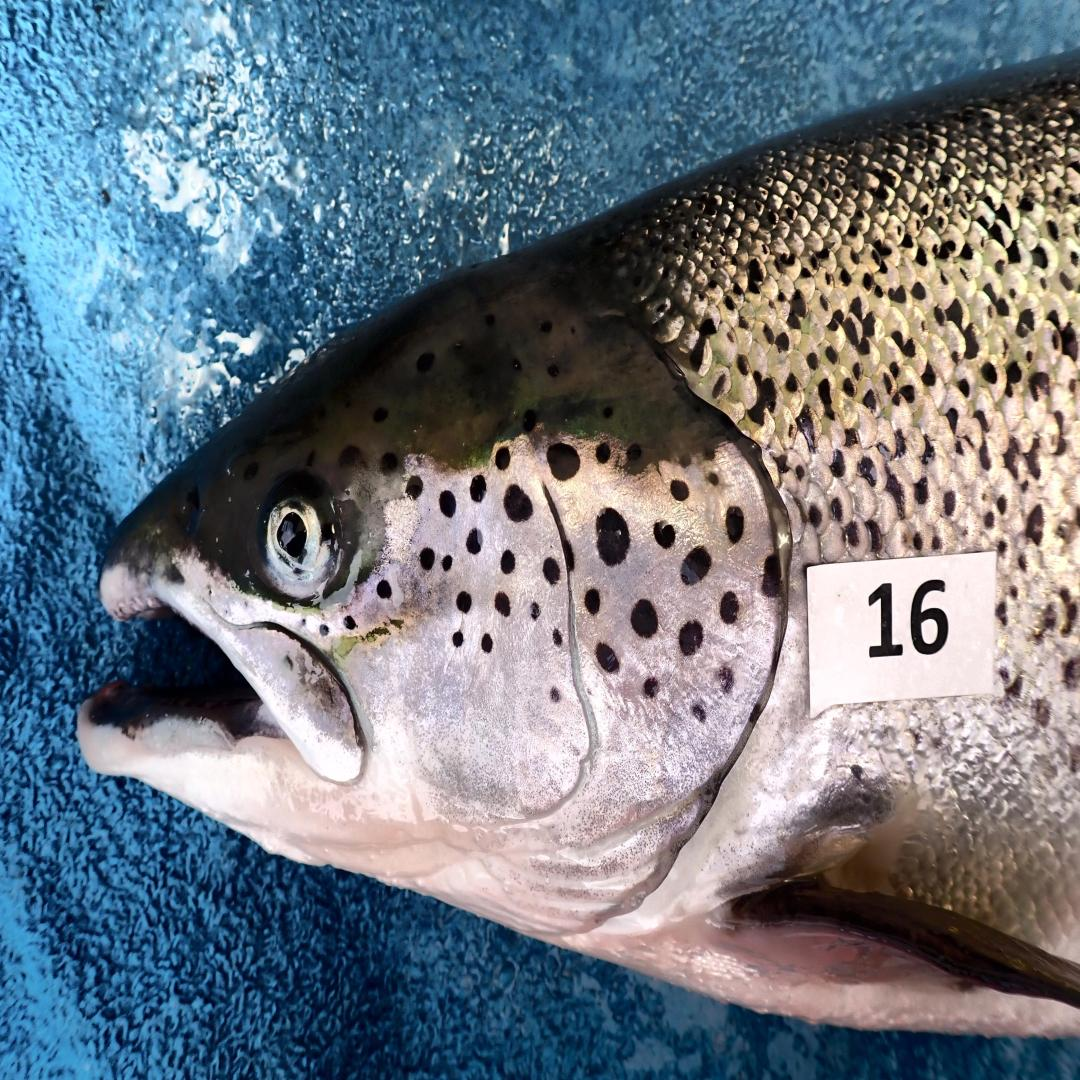spot: (597, 509, 631, 565), (546, 442, 580, 481), (681, 546, 711, 585), (504, 484, 532, 523), (631, 599, 658, 638), (761, 554, 780, 596), (679, 622, 702, 655), (726, 506, 745, 543), (595, 644, 618, 672), (719, 591, 738, 624), (654, 523, 675, 548), (439, 489, 456, 518), (542, 557, 559, 585), (470, 475, 487, 503), (407, 475, 424, 498), (671, 481, 690, 501), (584, 588, 599, 613), (466, 529, 481, 554), (719, 667, 734, 692), (595, 442, 612, 464), (496, 591, 510, 616), (500, 551, 515, 574), (420, 548, 435, 571), (496, 447, 510, 470), (456, 591, 470, 613), (643, 678, 658, 698), (692, 703, 707, 723), (749, 703, 762, 726), (378, 579, 392, 599), (626, 444, 642, 461), (481, 633, 494, 652), (451, 630, 464, 647), (441, 554, 454, 571), (551, 686, 561, 703), (344, 616, 356, 630), (679, 455, 691, 468), (709, 472, 719, 487), (553, 630, 563, 644), (532, 602, 540, 619), (319, 624, 329, 636)
